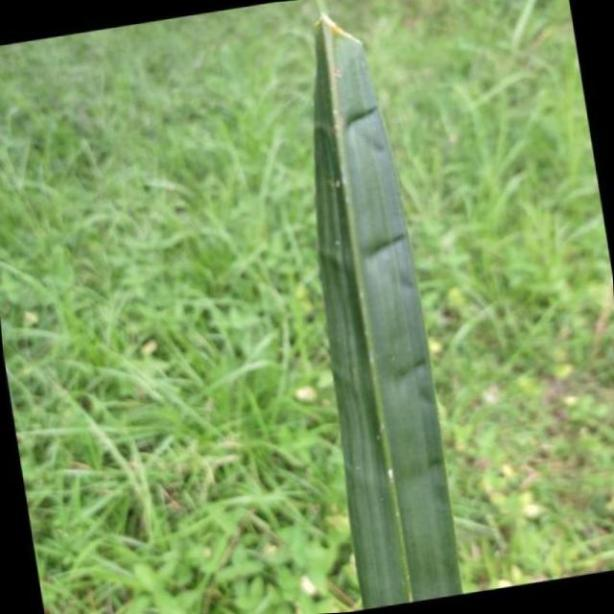Boron: (307, 5, 462, 611)
